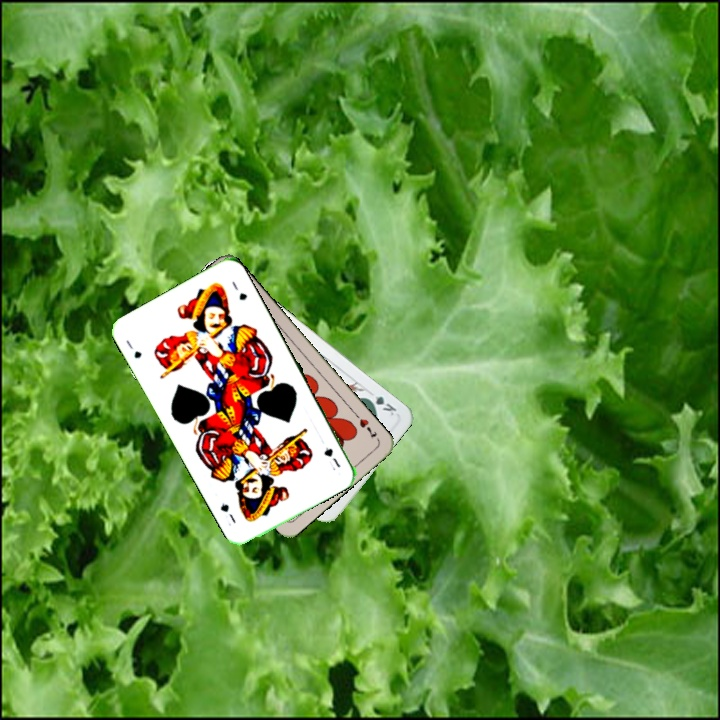GK: (362, 390, 399, 418)
GU: (321, 443, 343, 470), (122, 335, 144, 361)
H7: (350, 409, 379, 440)
